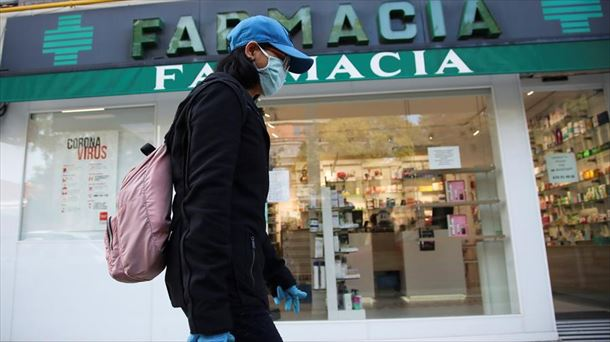with_mask: (239, 29, 304, 99)
